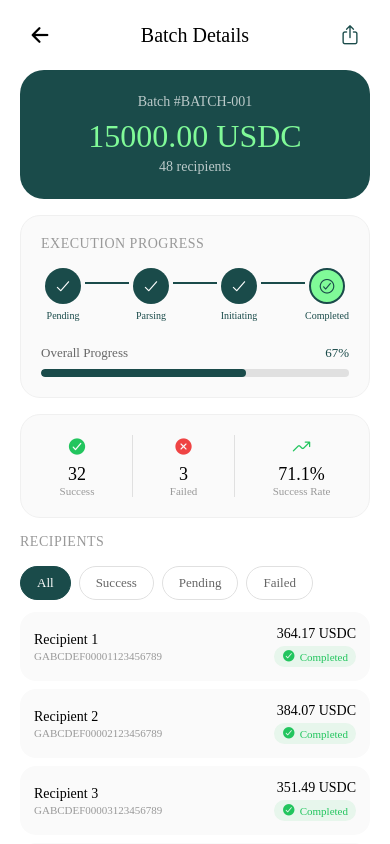
Scenario: BatchReceiptExport › shows a loading indicator while exporting
The width and height of the screenshot is (390, 844).
Step 1. Click the element named "Export receipt" → (350, 35), box top-left (339, 24), bottom-right (361, 46)
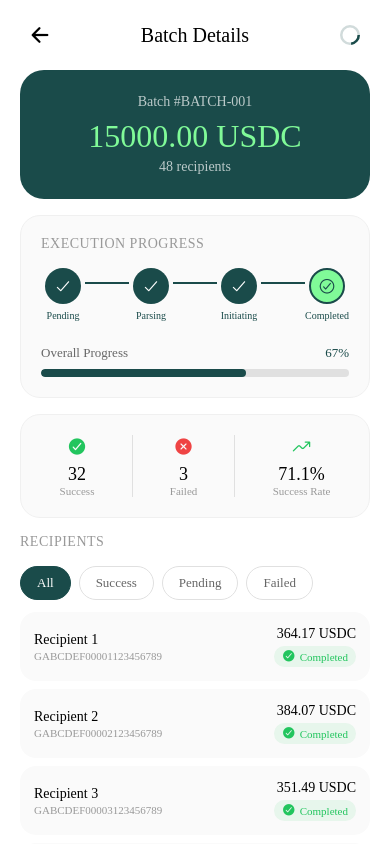
Expected: the progress indicator with test id "export-spinner" is shown, top-left (340, 25), bottom-right (360, 45)
